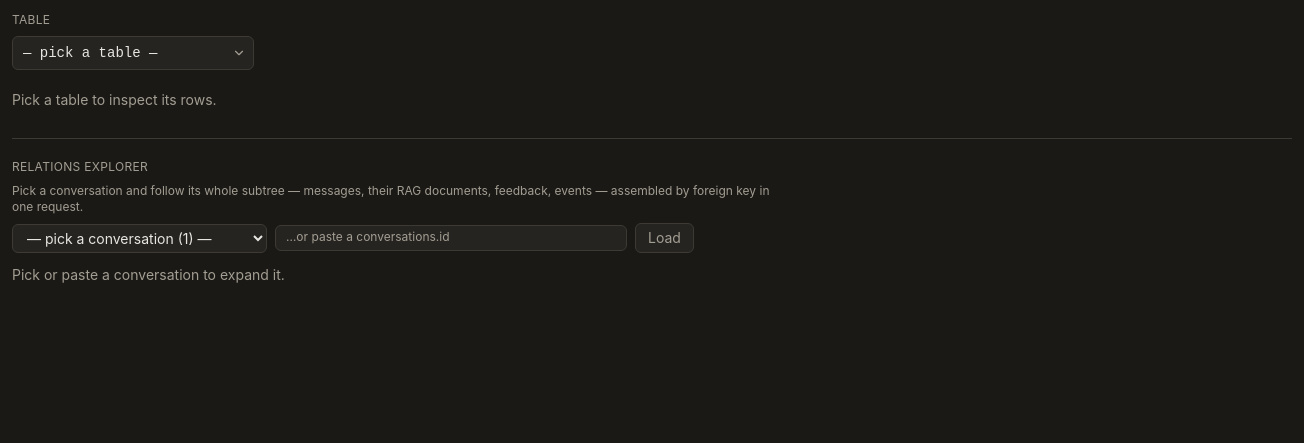
Scenario: DbViz › omits the hint for a table it has no note for
The width and height of the screenshot is (1304, 443).
Step 1. Select "nosuchhint — 1 rows" in the 1st dropdown → (133, 53), box [12,36,254,70]
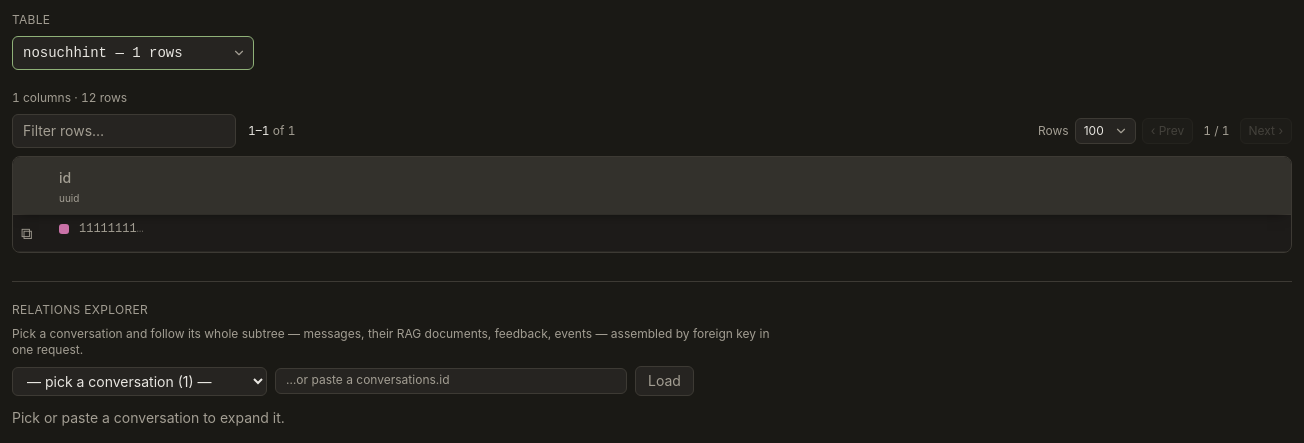
expect the table is shown: met, box [13,157,1291,252]
